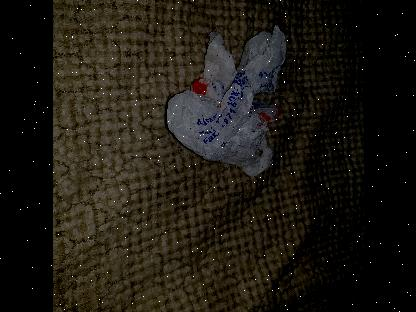Others: (165, 26, 285, 176)
